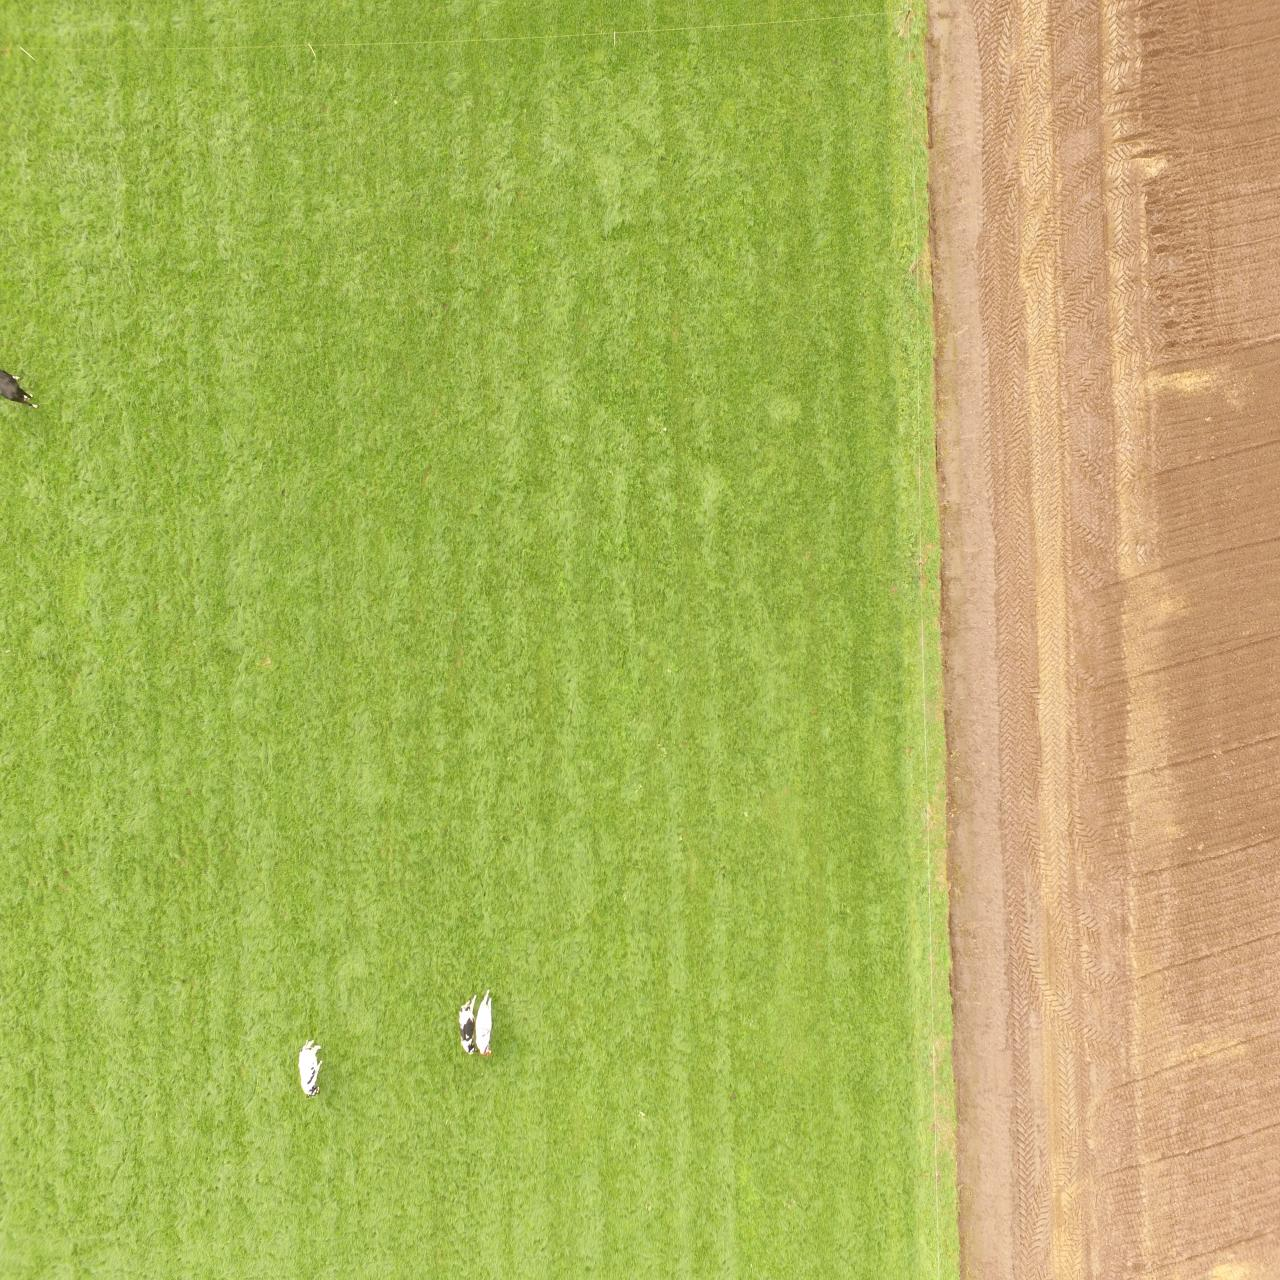cow: (454, 985, 496, 1062), (294, 1035, 325, 1101)
